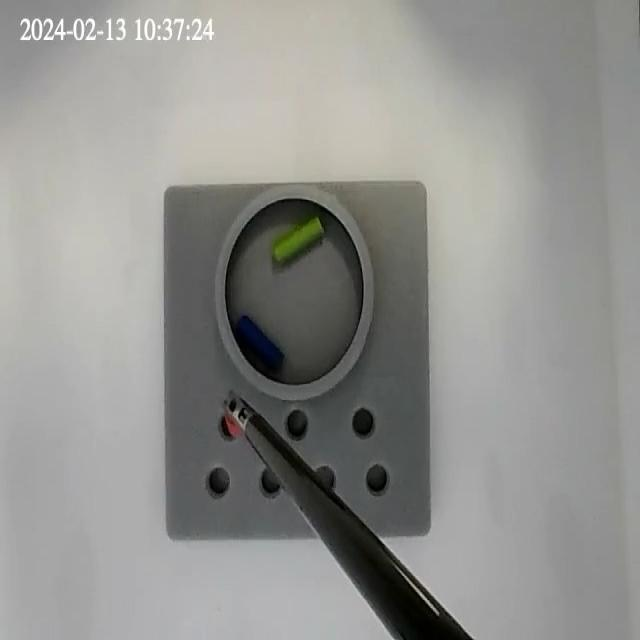EmptyHole: (347, 402, 381, 444), (203, 459, 232, 503), (362, 458, 393, 498), (282, 403, 312, 442), (310, 461, 339, 499), (258, 464, 284, 497), (217, 411, 243, 441)
